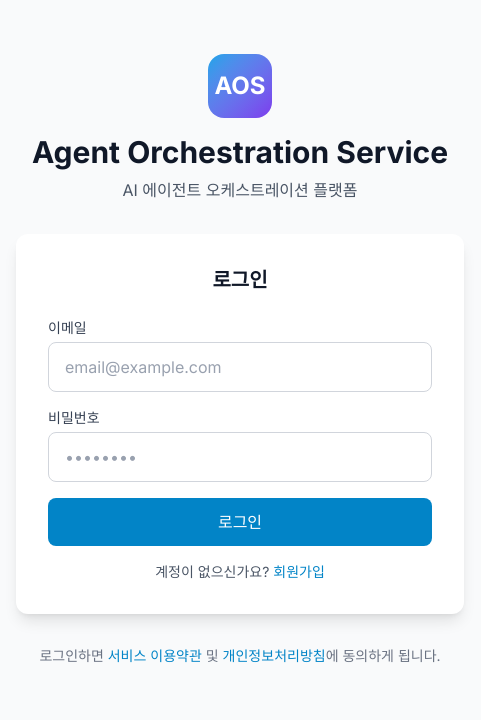
Test: LoginPage › shows error on login failure
The image size is (481, 720).
Type "test@test.com" into the field labelled "이메일" at (240, 367), box [48, 342, 432, 392]
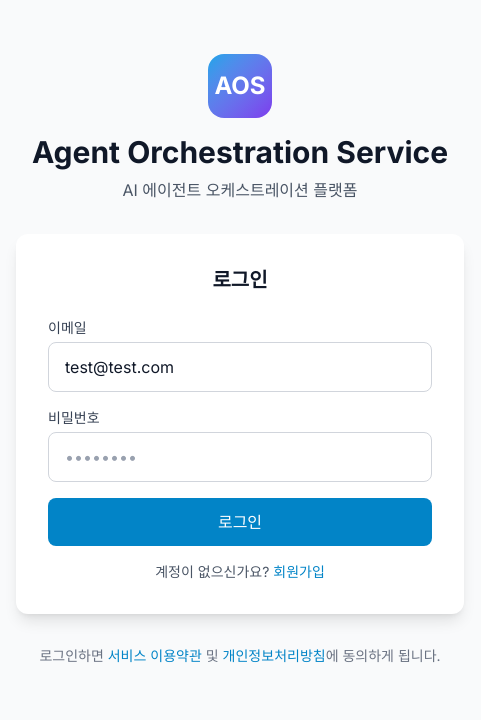
Type "wrong" into the password field labelled "비밀번호" at (240, 457), box [48, 432, 432, 482]
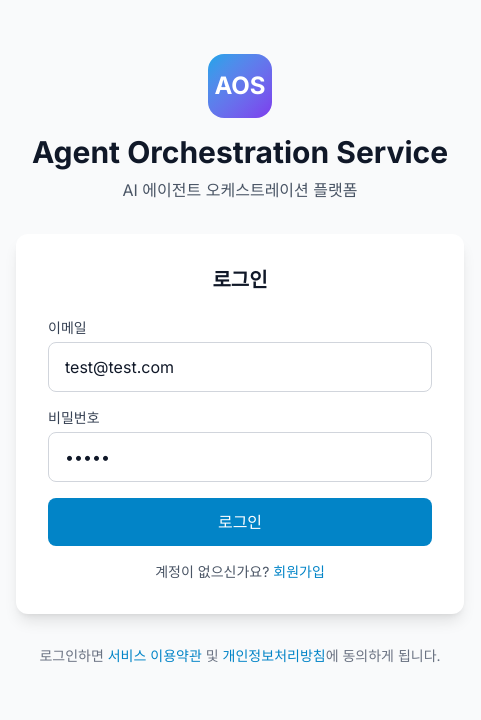
Submit the form from the button "로그인", box [48, 498, 432, 546]
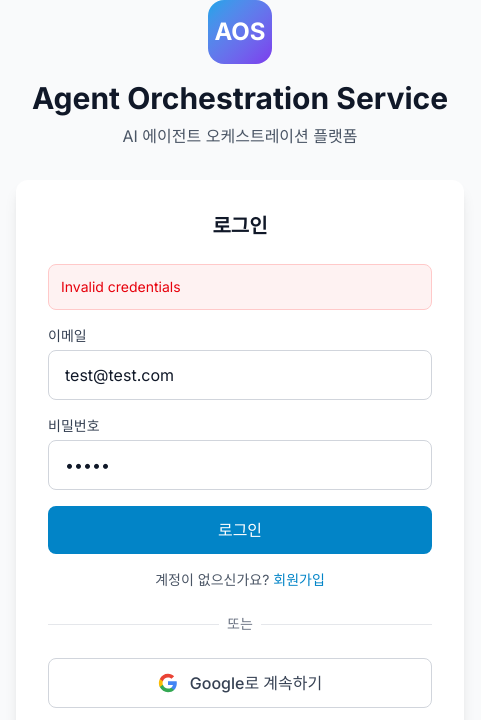
Expected: the text "Invalid credentials" is shown, [48, 264, 432, 310]
